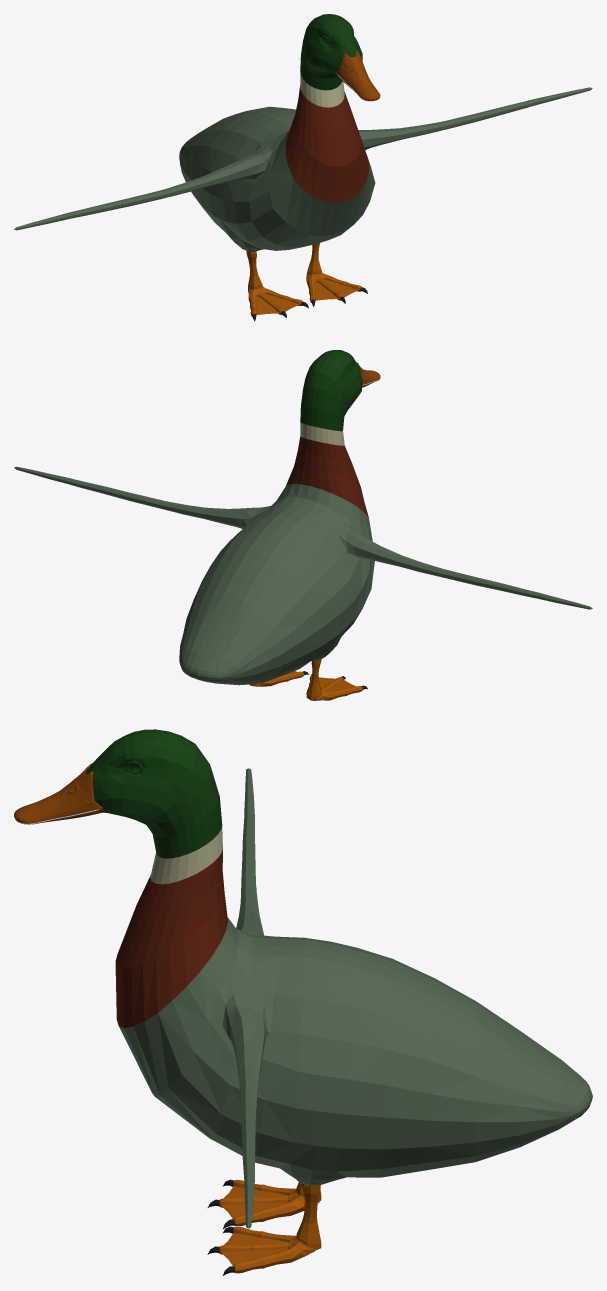
The model's file is duck_duck.obj.
The picture shows the model from 3 angles, top to bottom: view 1: azimuth 30°, elevation 25°; view 2: azimuth 150°, elevation 25°; view 3: azimuth 270°, elevation 25°; orthographic projection. The views are drawn at different scales.
Size of the model in its own units: 0.7839 by 0.3975 by 0.4173.
